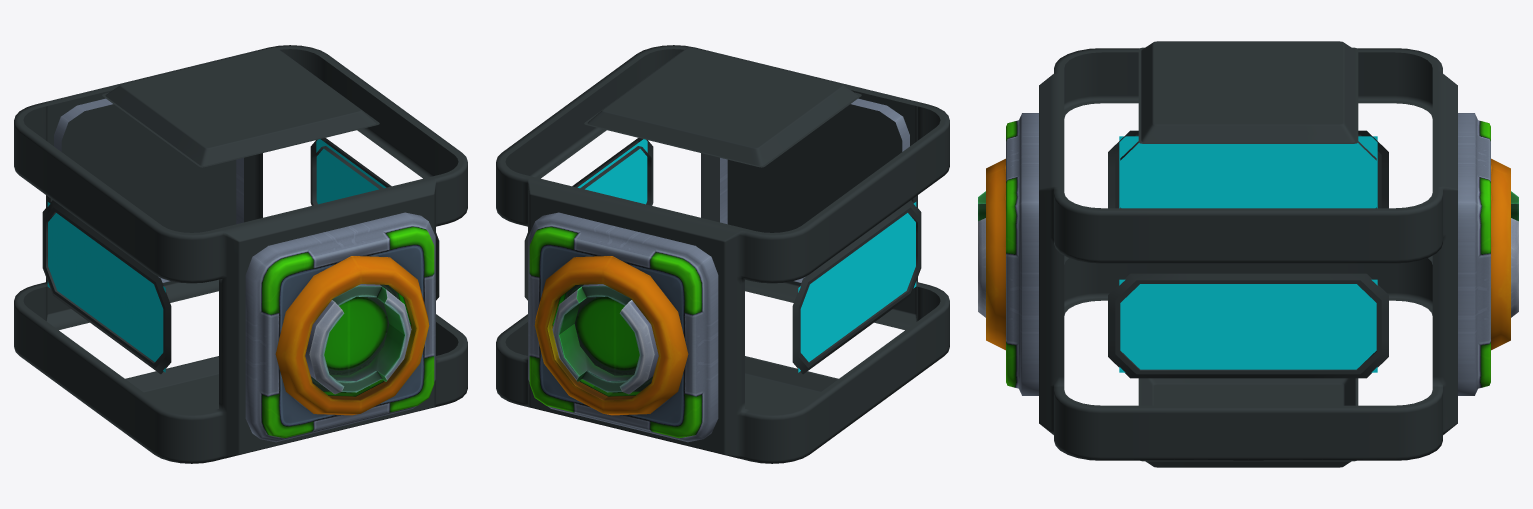
The model's file is fant_smartchest_2.obj.
The picture shows the model from 3 angles, left to right: view 1: azimuth 30°, elevation 25°; view 2: azimuth 150°, elevation 25°; view 3: azimuth 270°, elevation 25°; orthographic projection. The views are drawn at different scales.
Parts seen in each view (by area): view 1: Fant_SmartChest_Cube; view 2: Fant_SmartChest_Cube; view 3: Fant_SmartChest_Cube.
Boxes of the visible parts, x1,y1,x2,y2 form: Fant_SmartChest_Cube: (14, 45, 467, 463); Fant_SmartChest_Cube: (496, 45, 949, 463); Fant_SmartChest_Cube: (978, 41, 1518, 467).
Size of the model in its own units: 3 by 3 by 4.17.
